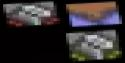ebony: (63, 0, 125, 28)
stone: (63, 28, 125, 63), (0, 0, 63, 28)
